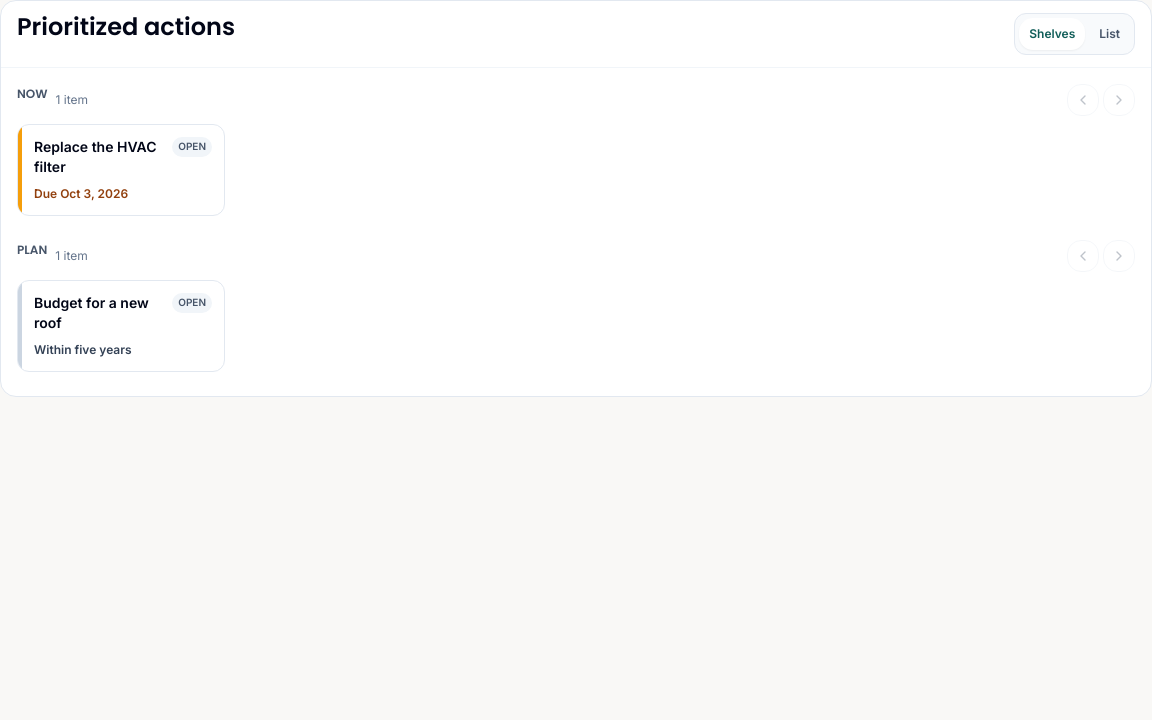
Test: Home Action shelves › each priority is a shelf whose cards show the timing, and a card opens a read-only detail with its page link
Expected: the element that starts with "Prioritized actions" is shown, [0,0,1151,397]
Expected: the list named "Plan, 1 item" is shown, [17,280,225,372]
Click the button "Replace the HVAC filter OPEN Due Oct 3, 2026" at [121, 170], box [17,124,225,216]
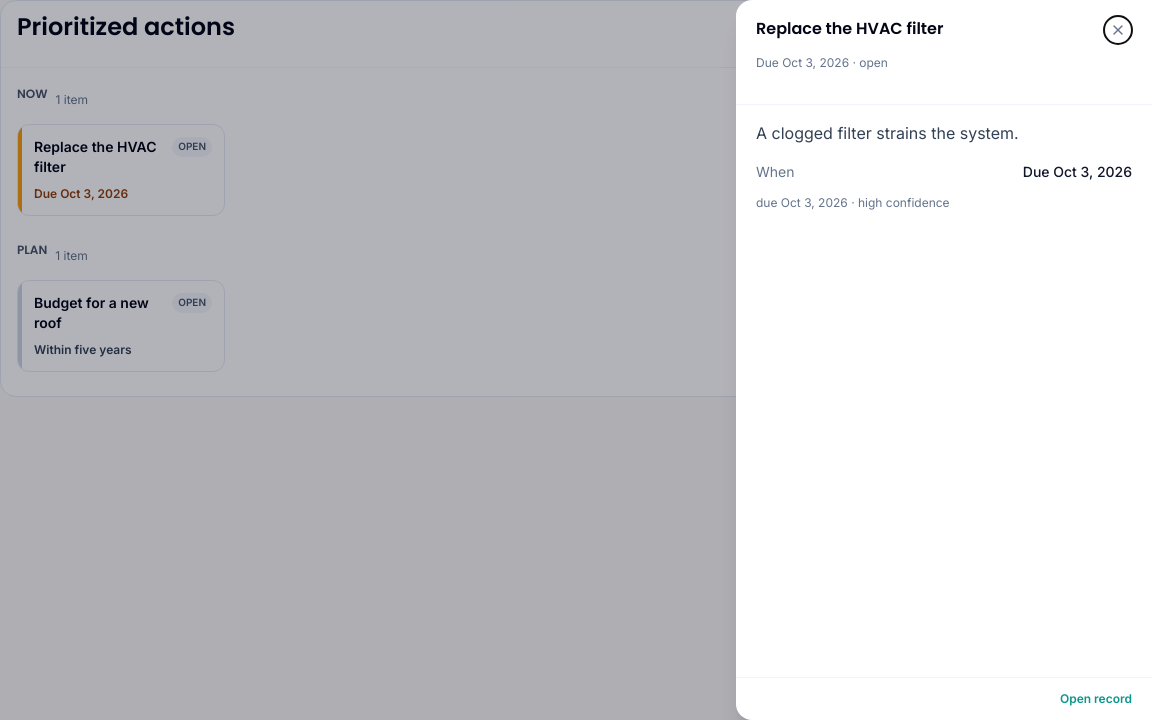
Result: the text "A clogged filter strains the system." is shown at [756,123,1019,143]
